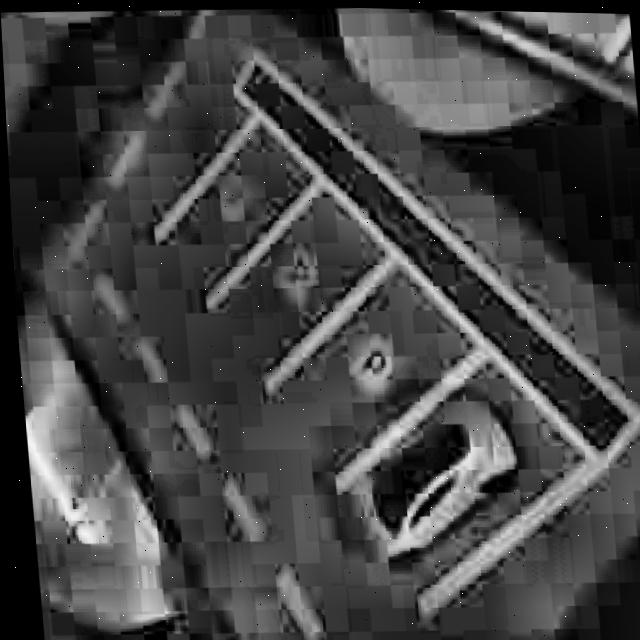car: (326, 380, 533, 582)
